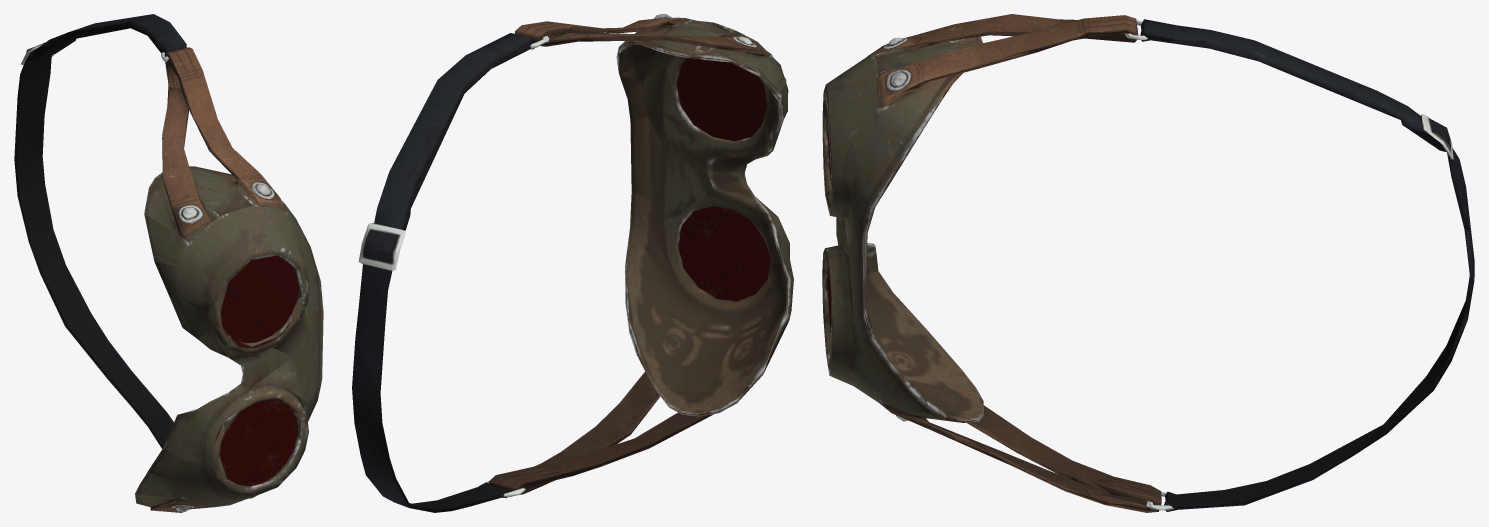
The model's file is F_DustGoggles.fbx.
3 views of the same model, side by side, from view 1: azimuth 30°, elevation 25°; view 2: azimuth 150°, elevation 25°; view 3: azimuth 270°, elevation 25° (orthographic). The views are drawn at different scales.
Visible parts, largest first — view 1: DustGoggles; view 2: DustGoggles; view 3: DustGoggles.
Boxes of the visible parts, x1,y1,x2,y2 form: DustGoggles: [14, 14, 323, 512]; DustGoggles: [352, 14, 793, 512]; DustGoggles: [822, 14, 1474, 512].
Bounding box in the file's own units: 0.0496 × 0.1165 × 0.1438.
